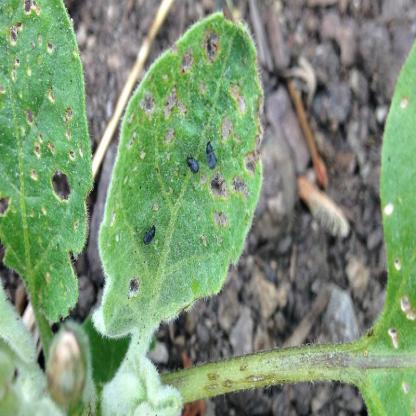beetle: (205, 139, 217, 166), (142, 225, 156, 246), (186, 156, 200, 174)
